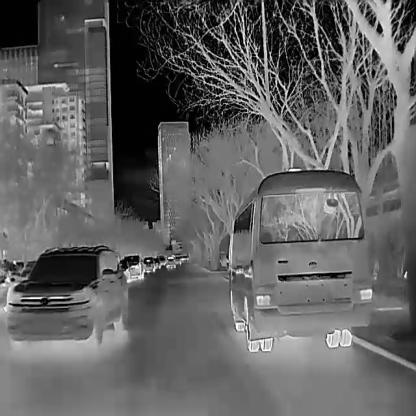car: (227, 166, 375, 352), (5, 242, 127, 350), (128, 254, 143, 279), (142, 255, 155, 273), (166, 256, 175, 269)
